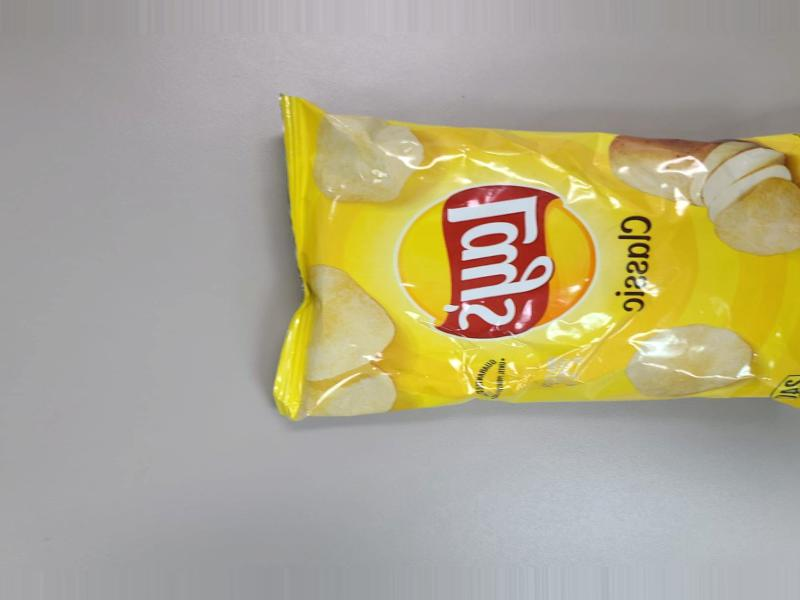lays: (307, 127, 792, 360)
